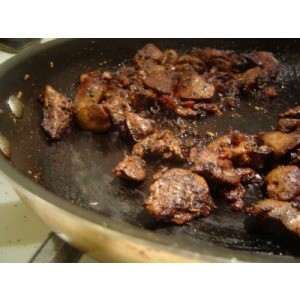liver_brain food: (100, 66, 248, 190)
